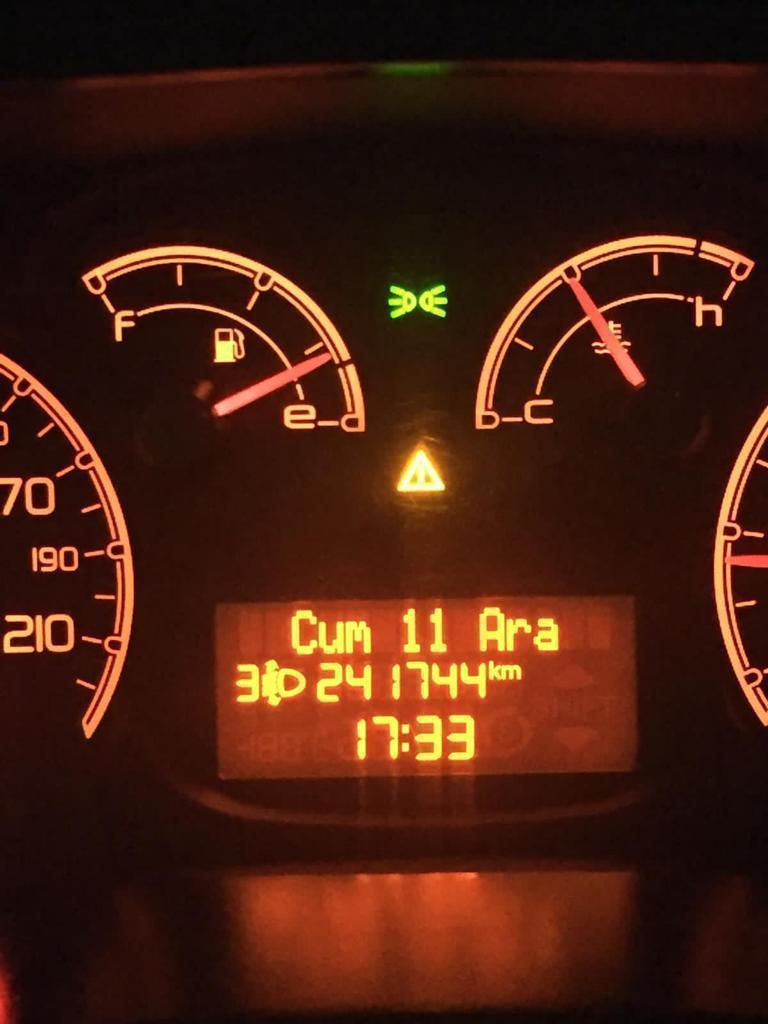1: (428, 605, 449, 655), (402, 606, 421, 655), (354, 716, 368, 767), (389, 660, 401, 703)
2: (317, 660, 344, 704)
3: (446, 712, 476, 762), (415, 712, 442, 762), (234, 661, 260, 703)
4: (458, 659, 488, 699), (345, 660, 373, 702), (431, 658, 458, 700)
7: (371, 714, 399, 761), (404, 658, 428, 699)
X: (291, 607, 318, 655), (478, 604, 505, 652), (533, 616, 561, 652), (345, 618, 372, 654), (506, 616, 533, 651), (319, 618, 344, 655), (501, 663, 523, 683), (488, 658, 502, 682), (401, 720, 410, 756)
odometer: (207, 587, 645, 786)
